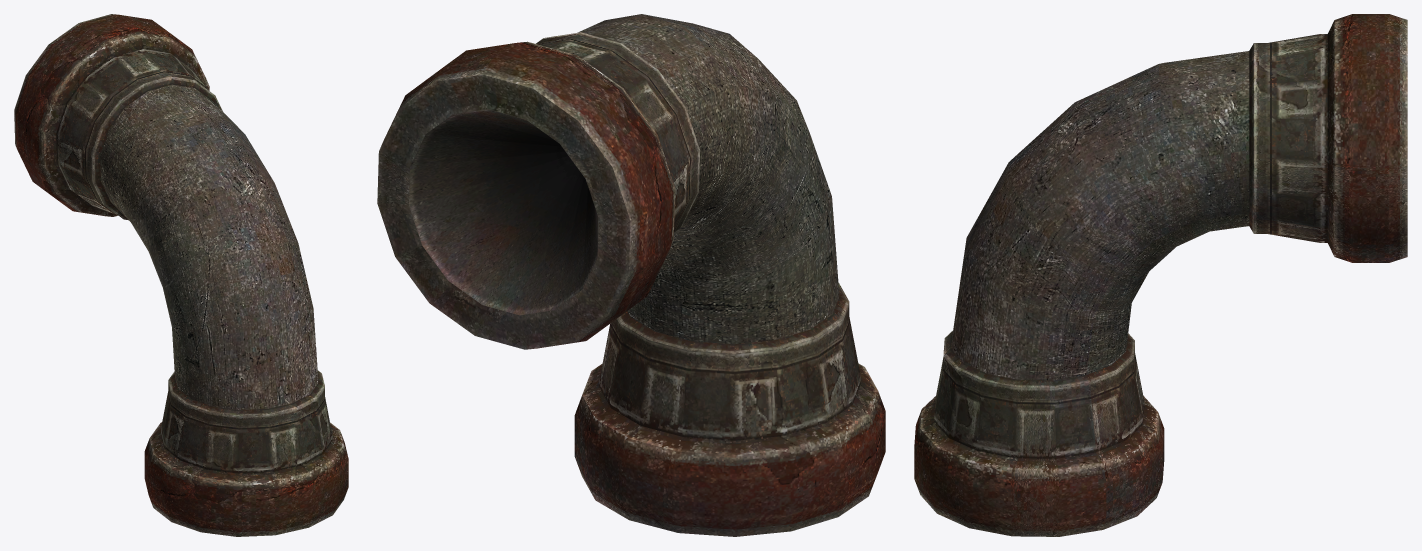
The model's file is pipe_large_90_short_tau.dae.
The picture shows the model from 3 angles, left to right: view 1: azimuth 30°, elevation 25°; view 2: azimuth 150°, elevation 25°; view 3: azimuth 270°, elevation 25°; orthographic projection. The views are drawn at different scales.
Visible parts, largest first — view 1: pipe_large_90_short_pplant; view 2: pipe_large_90_short_pplant; view 3: pipe_large_90_short_pplant.
Part boxes in pixels (x1=…): pipe_large_90_short_pplant: x1=14, y1=14, x2=348, y2=536; pipe_large_90_short_pplant: x1=377, y1=14, x2=885, y2=536; pipe_large_90_short_pplant: x1=914, y1=14, x2=1407, y2=536.
Size of the model in its own units: 0.4907 by 1 by 0.9688.
